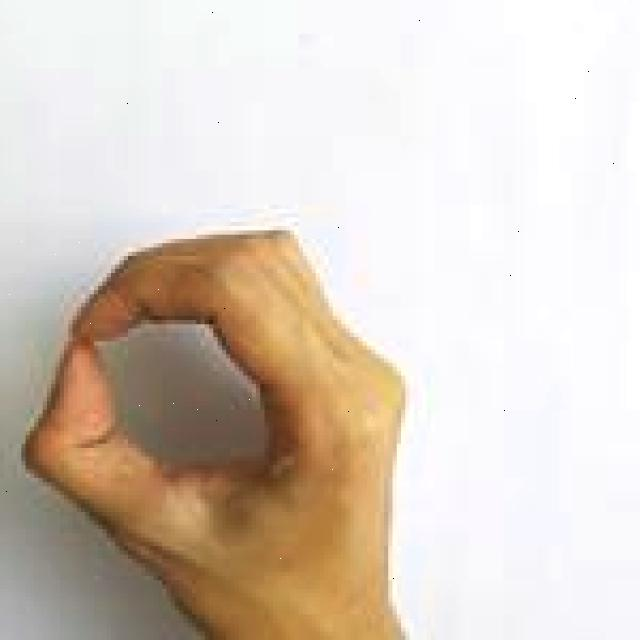O: (19, 216, 420, 640)
